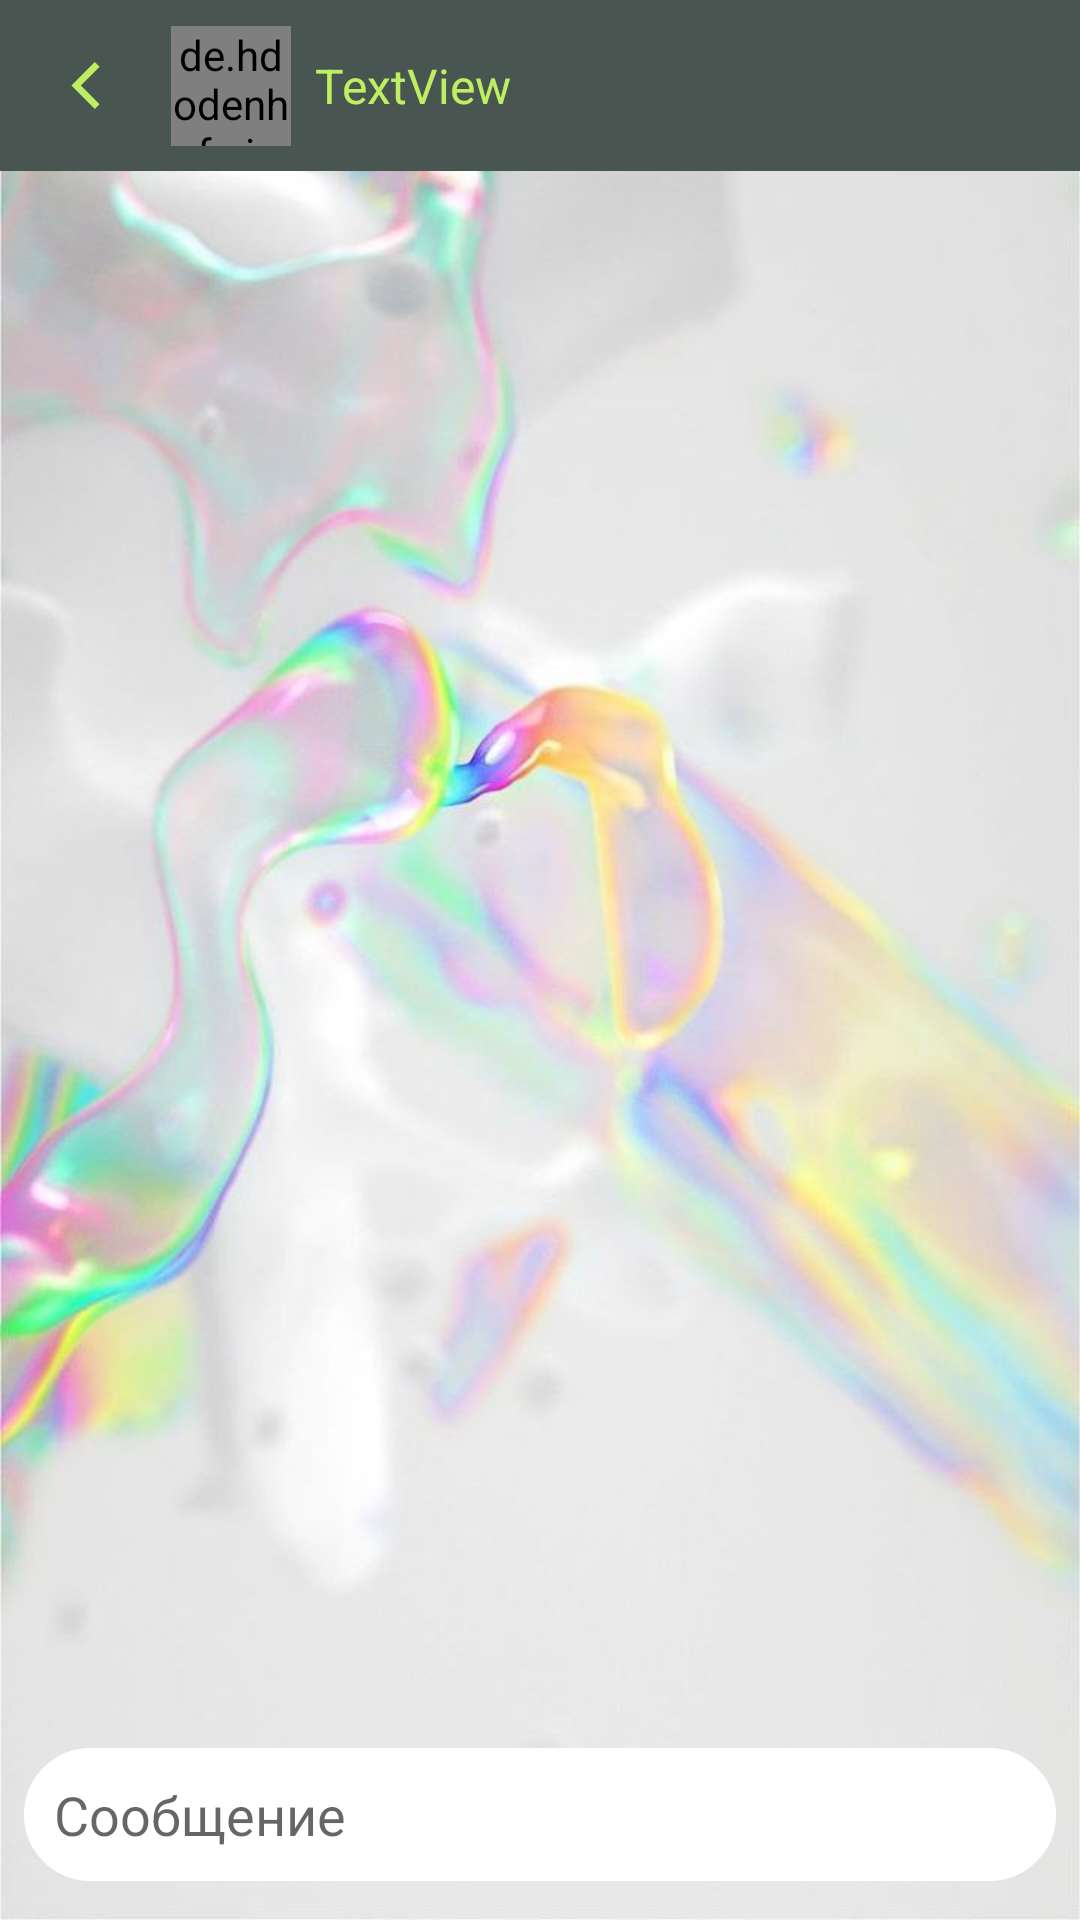

Where icons sit on this 1080px x 1920px app screen, as [x1,y1,x2,y2]:
back from settings: [71,62,100,109]
